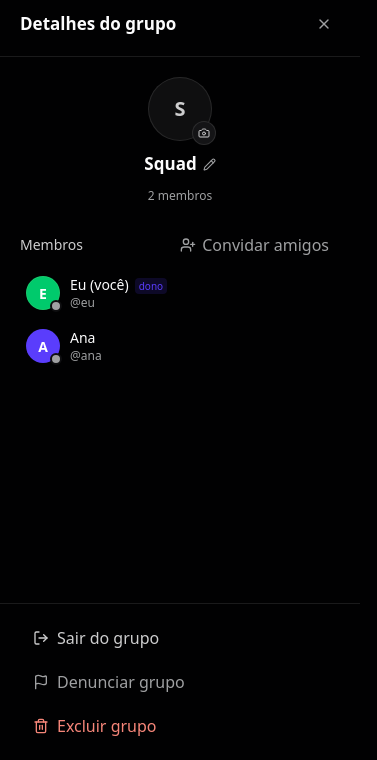
Test case: GroupDetailsPanel — invitations › an individual failure shows up with its reason
This screenshot has width=377, height=760.
Step 1. Click the button "Convidar amigos" → (255, 245), box [169,229,340,261]
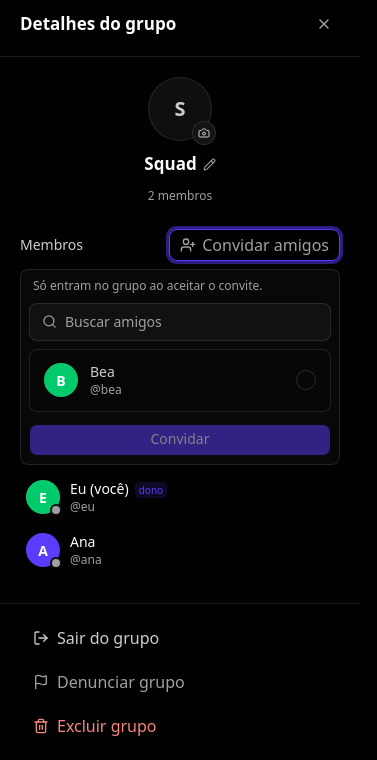
Step 2. Click the button "B Bea @bea" → (61, 380), box [34,354,326,407]
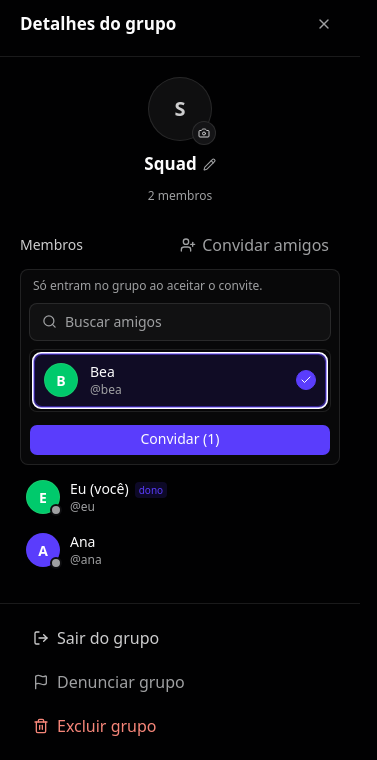
Step 3. Click the button "Convidar (1)" → (180, 440), box [29,424,331,456]
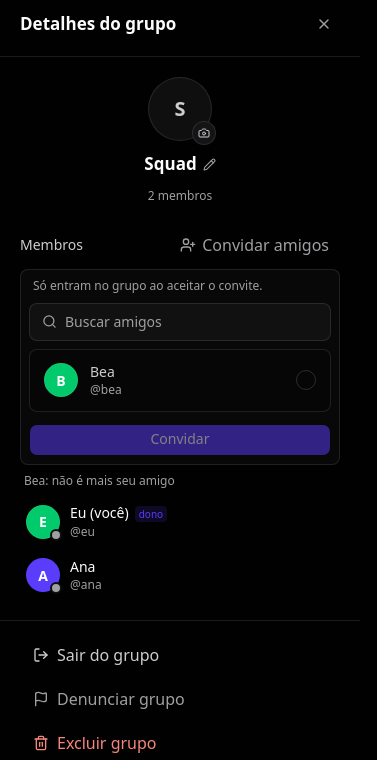
Expected: the text "Bea: não é mais seu amigo" is shown, [24,472,175,489]
